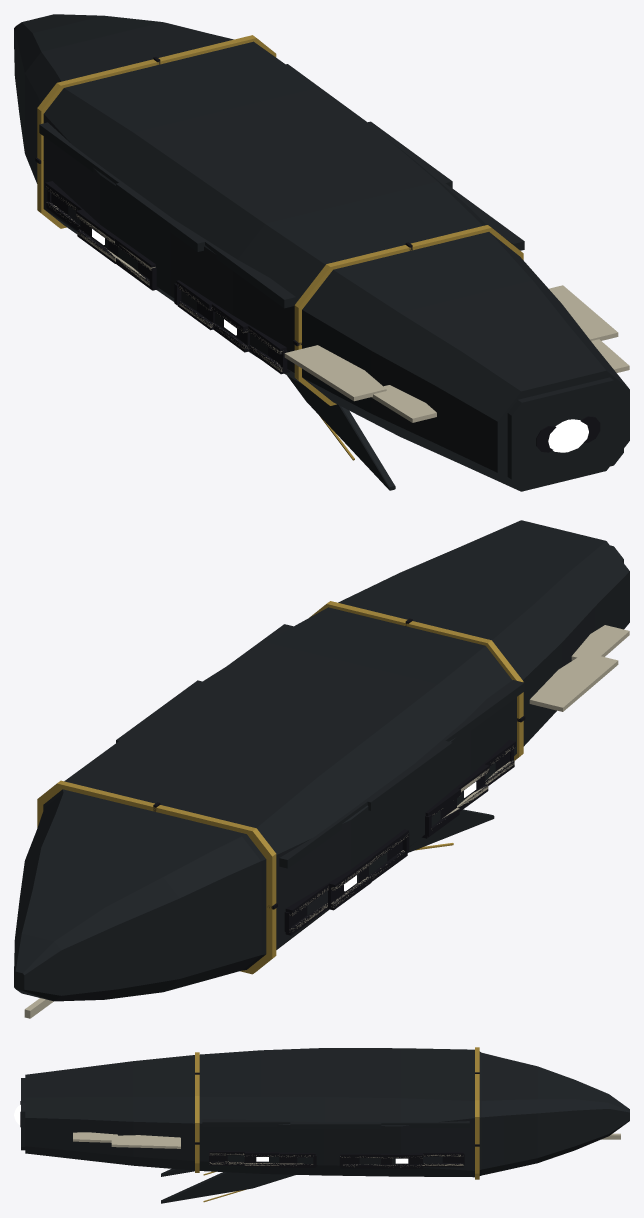
The picture shows the model from 3 angles, top to bottom: view 1: azimuth 30°, elevation 25°; view 2: azimuth 150°, elevation 25°; view 3: azimuth 270°, elevation 25°; orthographic projection. The views are drawn at different scales.
Visible parts, largest first — view 1: RIMWARD_HULL, RIMWARD_ENGINE_GLOW; view 2: RIMWARD_HULL; view 3: RIMWARD_HULL.
Boxes of the visible parts, box(x1,y1,x2,y2) form: RIMWARD_HULL: box(14, 14, 629, 491); RIMWARD_ENGINE_GLOW: box(548, 419, 588, 452); RIMWARD_HULL: box(14, 520, 629, 1018); RIMWARD_HULL: box(20, 1047, 629, 1203).
Size of the model in its own units: 4.77 by 3.45 by 16.46.
